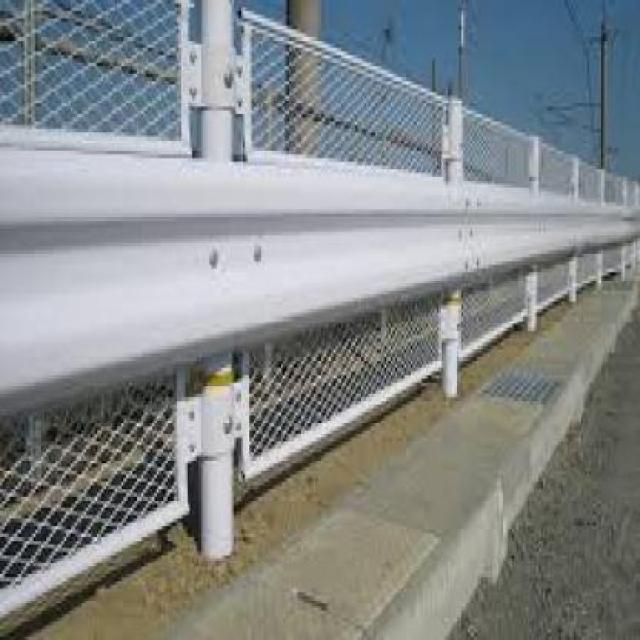Guard rail: (0, 127, 640, 518)
